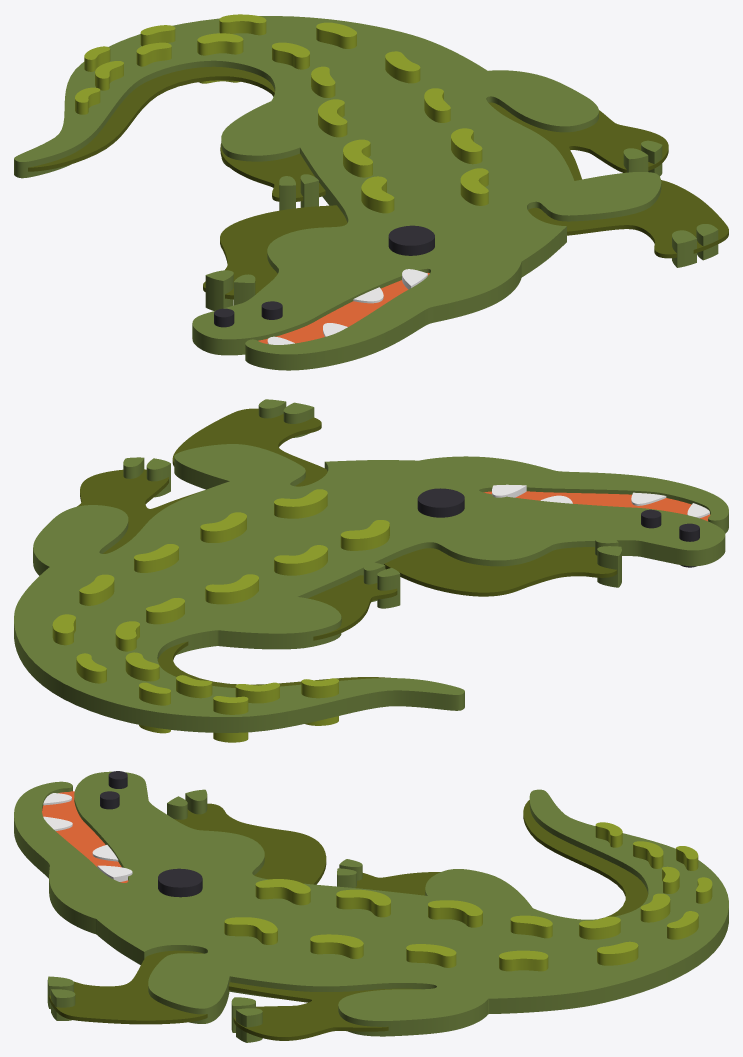
The model's file is emoji_u1f40a.glb.
The picture shows the model from 3 angles, top to bottom: view 1: azimuth 30°, elevation 25°; view 2: azimuth 150°, elevation 25°; view 3: azimuth 270°, elevation 25°; orthographic projection. The views are drawn at different scales.
Visible parts, largest first — view 1: emoji_u1f40a; view 2: emoji_u1f40a; view 3: emoji_u1f40a.
Boxes of the visible parts, x1,y1,x2,y2 form: emoji_u1f40a: (14, 14, 728, 370); emoji_u1f40a: (14, 399, 728, 742); emoji_u1f40a: (14, 771, 728, 1042).
Bounding box in the file's own units: 0.0289 × 0.002 × 0.0336.
